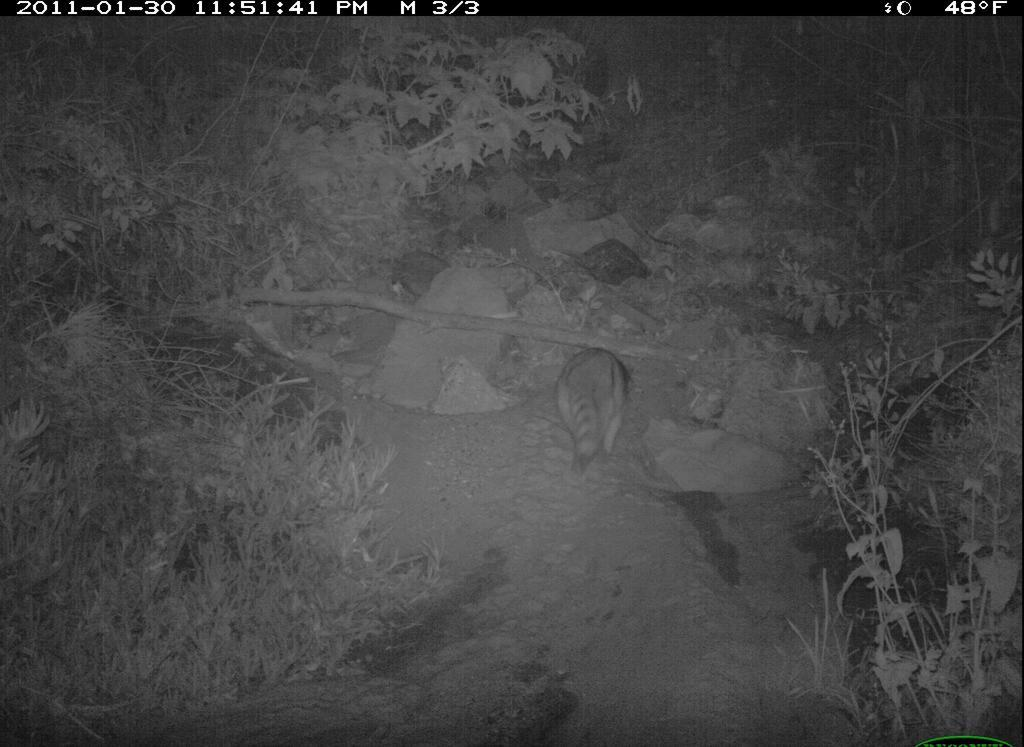raccoon: (550, 337, 650, 482)
